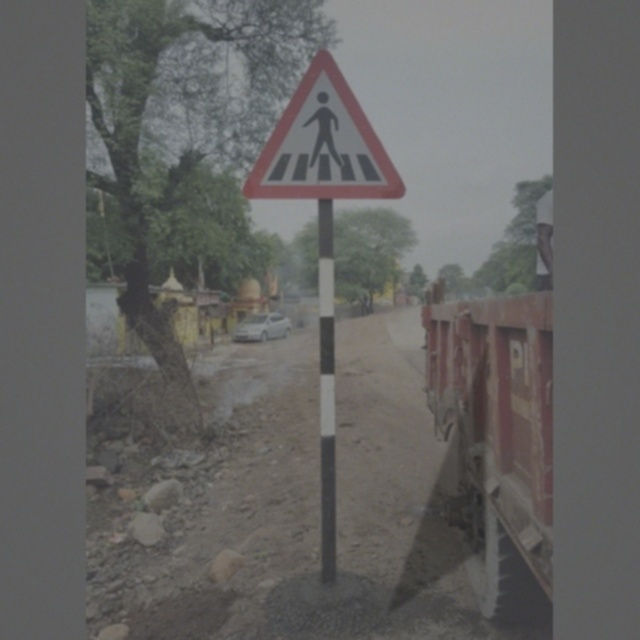Pedestrian_Crossing: (247, 38, 413, 202)
